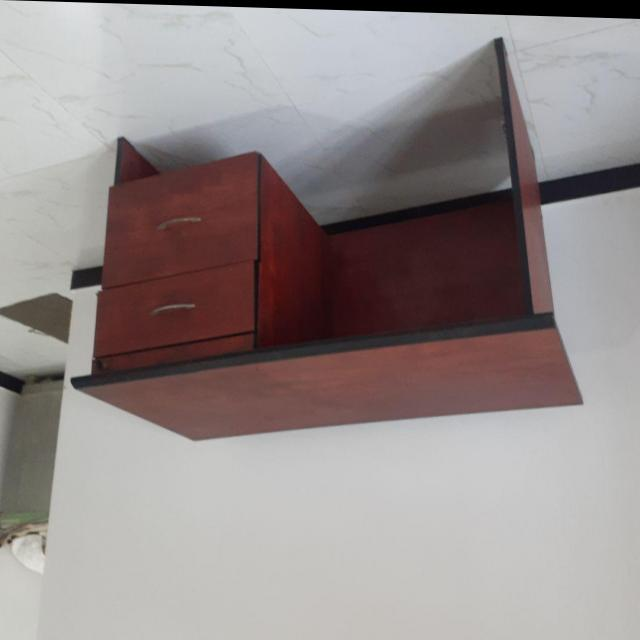Table: (28, 13, 597, 466)
